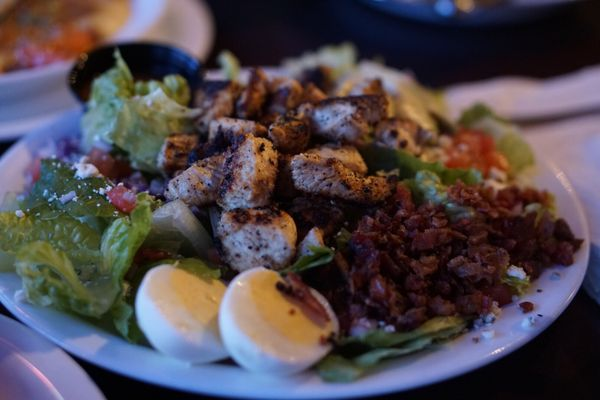curry: (0, 157, 161, 333)
sushi: (0, 27, 597, 390)
